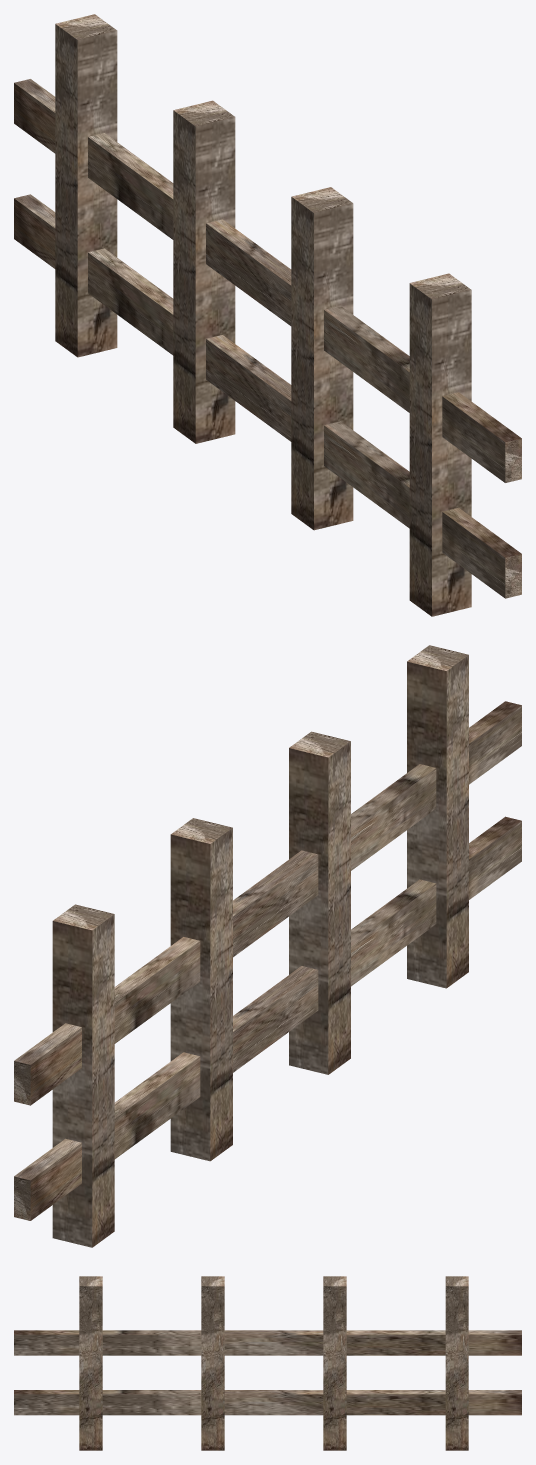
The model's file is madeira fora.fbx.
3 renders of one model, top to bottom at view 1: azimuth 30°, elevation 25°; view 2: azimuth 150°, elevation 25°; view 3: azimuth 270°, elevation 25°, orthographic. The views are drawn at different scales.
Parts seen in each view (by area): view 1: pCube188, pCube189, pCube203, pCube204, pCube206, pCube205; view 2: pCube189, pCube188, pCube205, pCube206, pCube204, pCube203; view 3: pCube189, pCube188, pCube203, pCube204, pCube205, pCube206.
Part boxes in pixels (x1,y1,x2,y2): pCube188: (14, 194, 521, 598); pCube189: (14, 79, 521, 482); pCube203: (409, 273, 471, 616); pCube204: (291, 187, 353, 530); pCube206: (55, 14, 117, 357); pCube205: (173, 100, 235, 443); pCube189: (14, 701, 521, 1105); pCube188: (14, 816, 521, 1220); pCube205: (170, 818, 232, 1161); pCube206: (52, 904, 114, 1247); pCube204: (289, 731, 350, 1074); pCube203: (407, 645, 468, 988); pCube189: (14, 1330, 521, 1355); pCube188: (14, 1390, 521, 1415); pCube203: (79, 1276, 102, 1450); pCube204: (201, 1276, 224, 1450); pCube205: (323, 1276, 346, 1450); pCube206: (445, 1276, 468, 1450).
Size of the model in its own units: 21.3 by 163 by 458.
